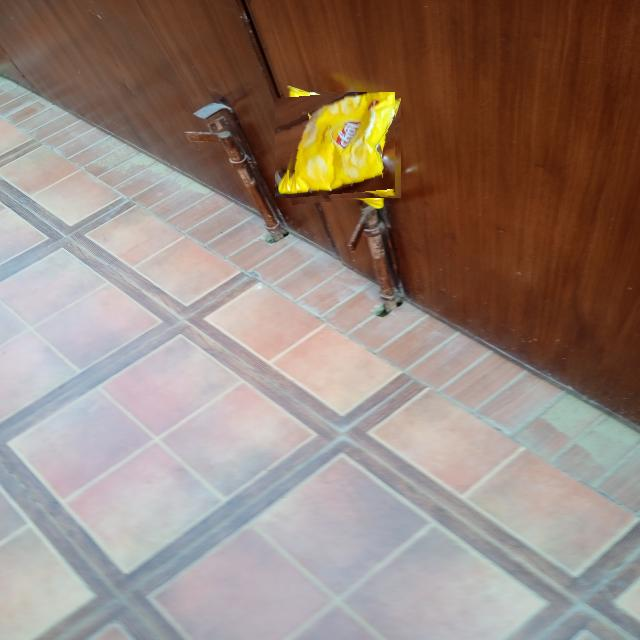Plastic: (281, 92, 395, 205)
